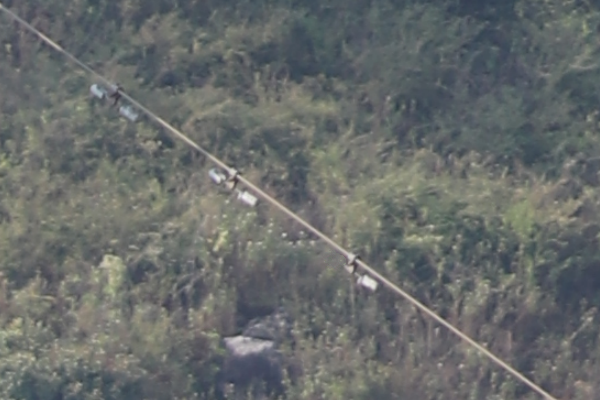damper: (87, 80, 143, 125), (206, 163, 259, 206)
damper_defect: (342, 249, 380, 292)
